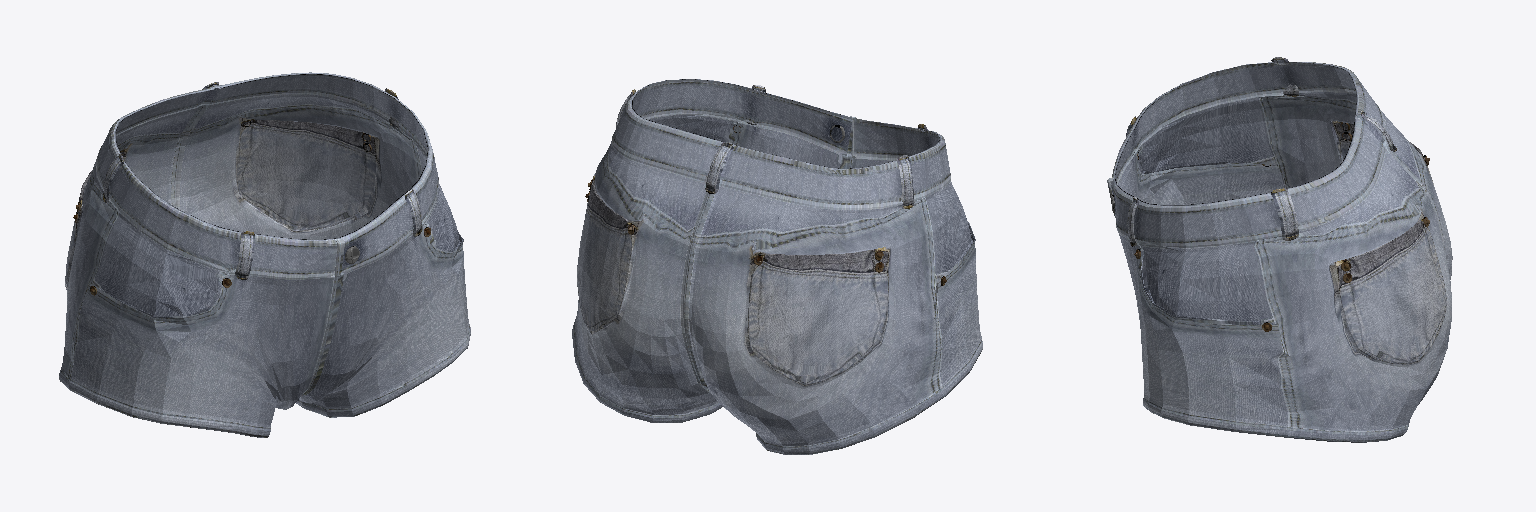
3 views of the same model, side by side, from view 1: azimuth 30°, elevation 25°; view 2: azimuth 150°, elevation 25°; view 3: azimuth 270°, elevation 25° (orthographic).
Visible parts, largest first — view 1: short_jeans; view 2: short_jeans; view 3: short_jeans.
Boxes of the visible parts, x1=… form: short_jeans: x1=59, y1=72, x2=470, y2=437; short_jeans: x1=572, y1=79, x2=982, y2=454; short_jeans: x1=1107, y1=57, x2=1452, y2=442.
Size of the model in its own units: 43.33 by 32.52 by 35.43.
Materials: 1 (1 with a texture image).